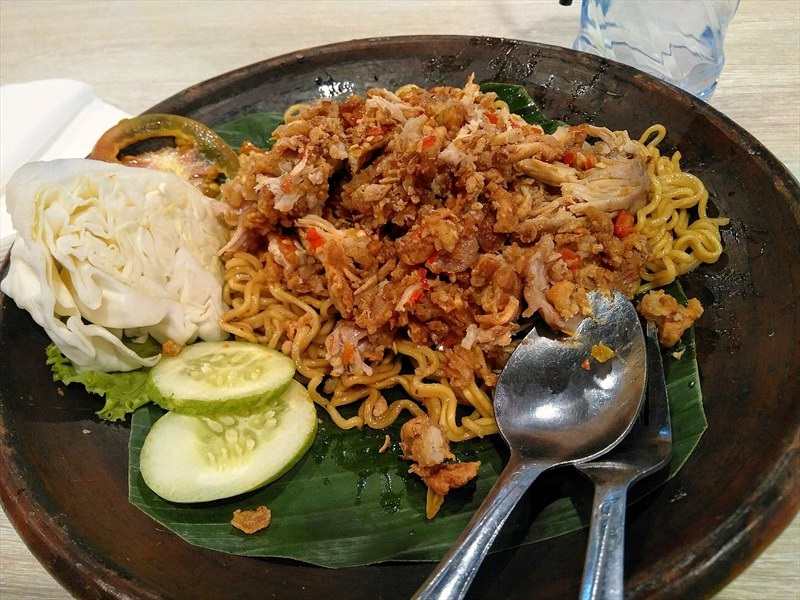Mie Goreng: (147, 104, 703, 486)
